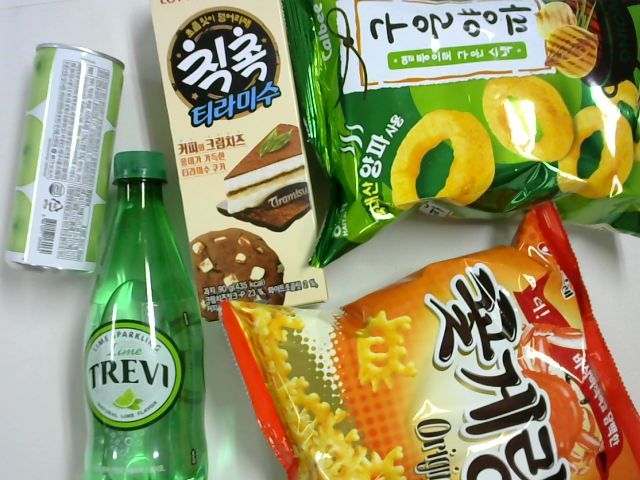Chicchok_Tiramisu: (145, 6, 319, 308)
Crabrang: (225, 202, 640, 478)
Demisoda_Apple_Can_250ml: (11, 46, 121, 280)
Grilled_Onions: (285, 6, 639, 262)
Treviraim_500ml: (79, 150, 212, 480)
